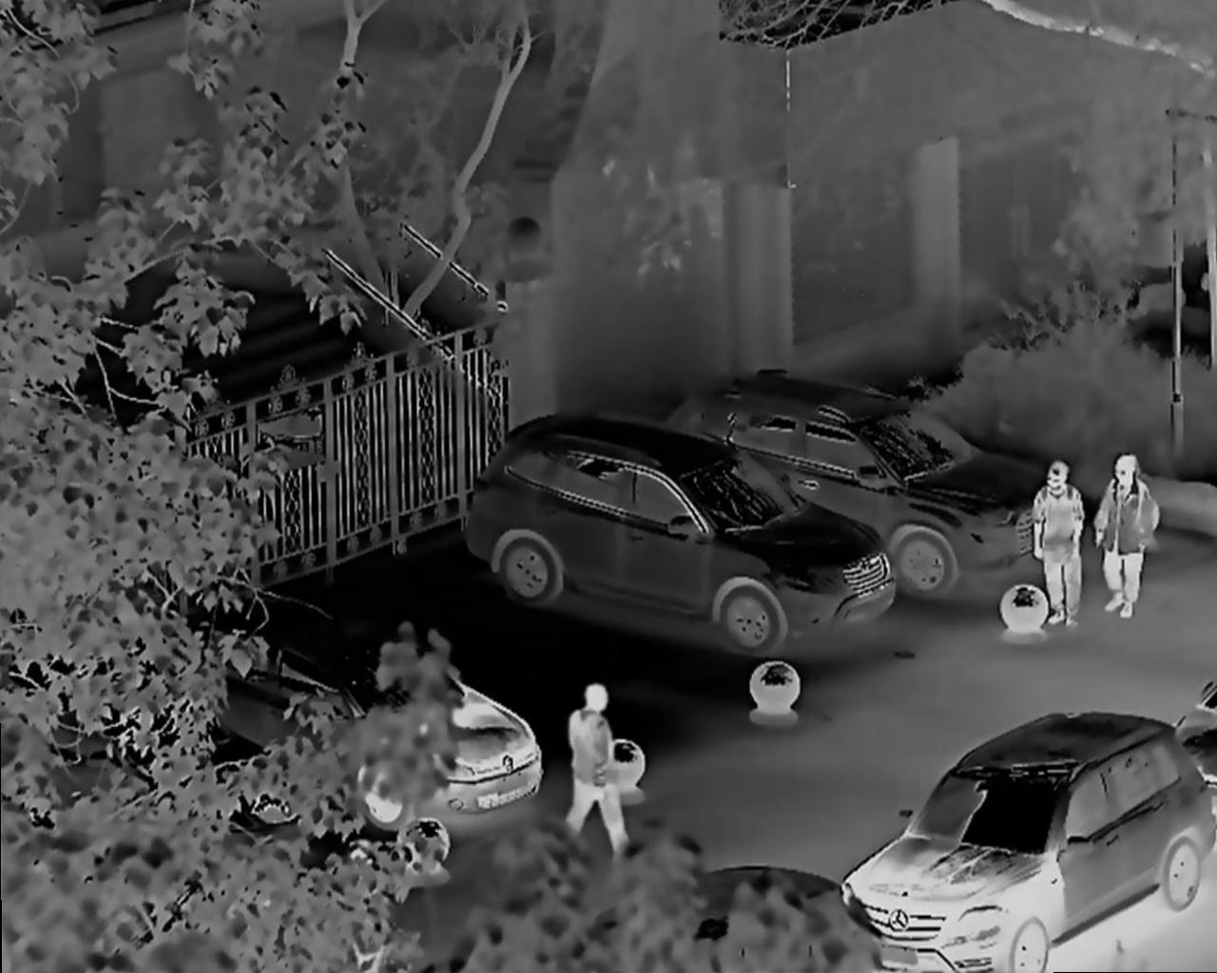person: (561, 672, 663, 849), (1028, 451, 1093, 647), (1090, 452, 1157, 635)
